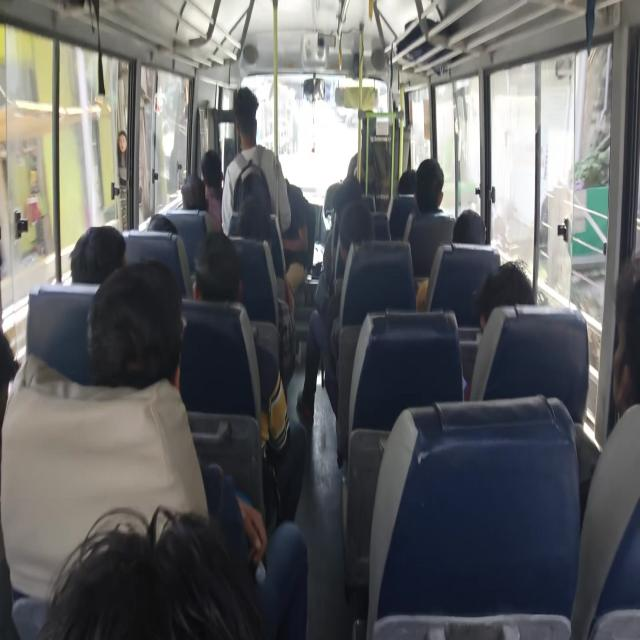person: (94, 498, 264, 640), (93, 287, 176, 381), (604, 258, 640, 428), (275, 172, 315, 310), (486, 258, 544, 334), (232, 84, 276, 177), (336, 201, 384, 252), (148, 204, 183, 253), (446, 204, 482, 251), (188, 163, 229, 202), (70, 234, 111, 273), (208, 248, 242, 290), (242, 196, 276, 238), (412, 156, 438, 205), (178, 172, 210, 208), (390, 163, 419, 201), (0, 324, 12, 414), (336, 182, 366, 214), (324, 182, 348, 208), (252, 178, 270, 202)
